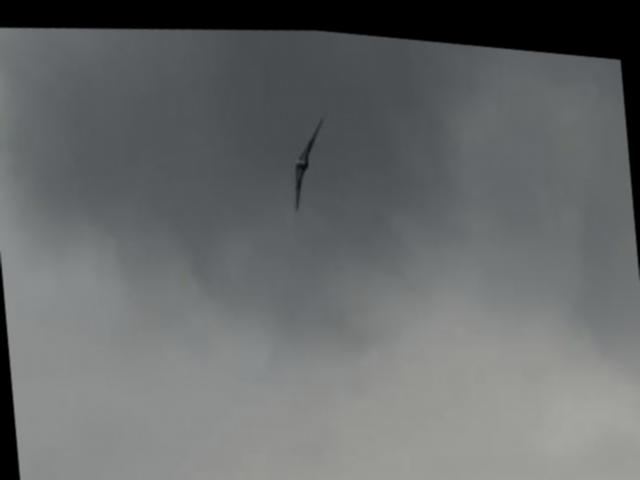flying wing: (285, 99, 333, 216)
